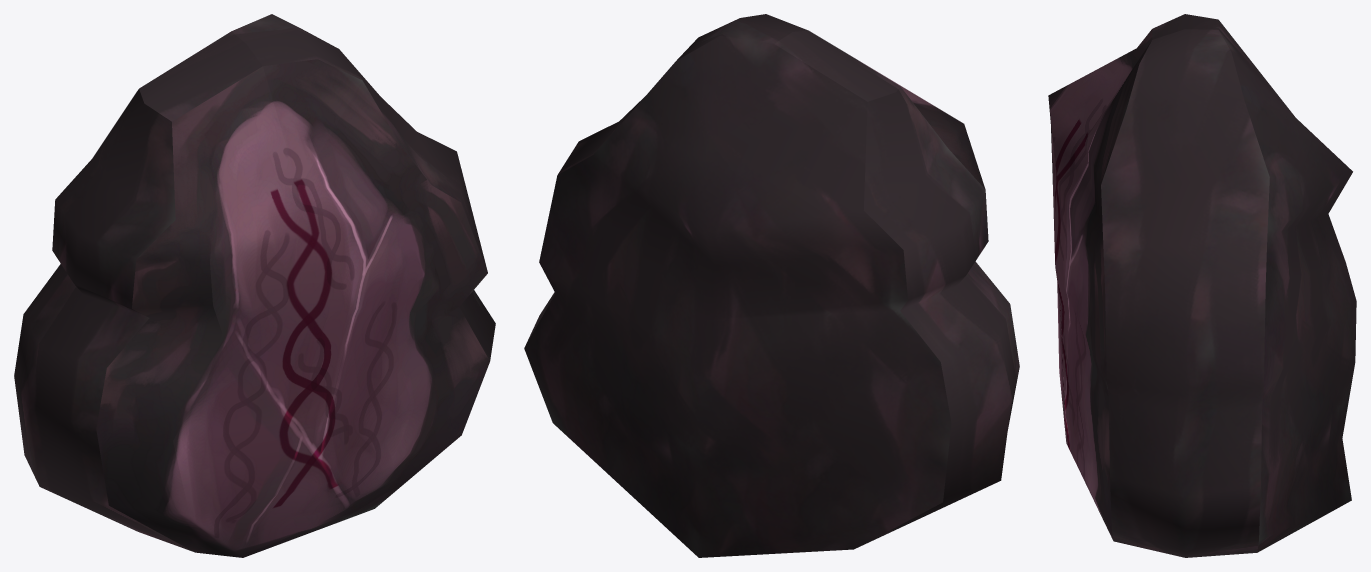
The model's file is dnarock.fbx.
3 views of the same model, side by side, from view 1: azimuth 30°, elevation 25°; view 2: azimuth 150°, elevation 25°; view 3: azimuth 270°, elevation 25° (orthographic).
Visible parts, largest first — view 1: pCube8; view 2: pCube8; view 3: pCube8.
Part boxes in pixels (left/top/right/bottom): pCube8: left=14, top=14, right=495, bottom=557; pCube8: left=524, top=14, right=1019, bottom=557; pCube8: left=1048, top=14, right=1356, bottom=557.
Size of the model in its own units: 25 by 23.71 by 14.17.
